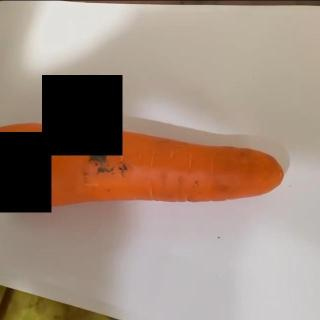carrot: (0, 121, 284, 212)
